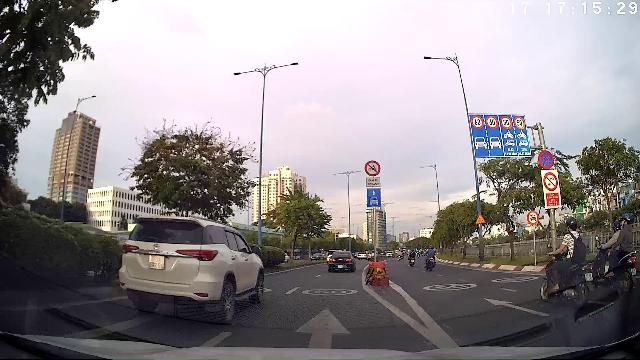103a-cam-oto: (527, 211, 539, 225)
127-toc-do-toi-da-50: (501, 116, 513, 130), (514, 116, 526, 130)
127-toc-do-toi-da-60: (472, 115, 484, 129), (486, 116, 498, 128)
130-cam-dung-va-do-xe: (538, 151, 554, 169)
